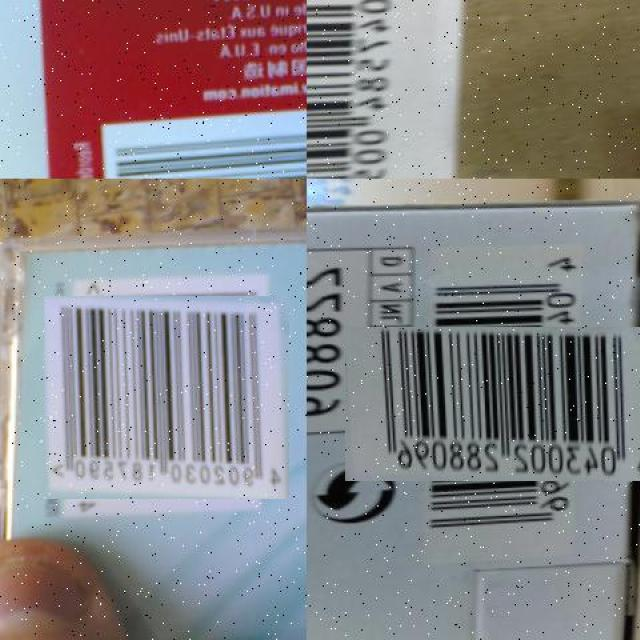Barcode: (386, 286, 622, 523), (54, 285, 279, 510), (307, 0, 416, 179), (96, 108, 307, 179)
